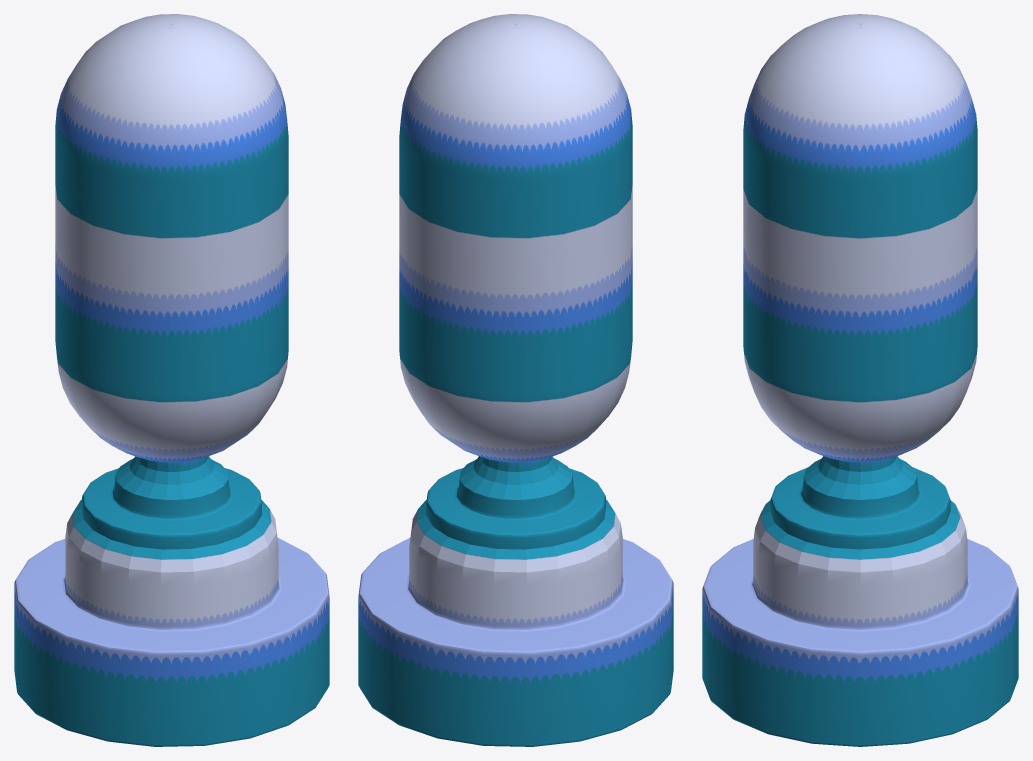
Rendered from Statue.fbx.
3 views of the same model, side by side, from view 1: azimuth 30°, elevation 25°; view 2: azimuth 150°, elevation 25°; view 3: azimuth 270°, elevation 25° (orthographic).
Visible parts, largest first — view 1: Capsule2; view 2: Capsule2; view 3: Capsule2.
Boxes of the visible parts, <box> form: Capsule2: <box>14,14,329,746</box>; Capsule2: <box>358,14,673,746</box>; Capsule2: <box>702,14,1018,746</box>.
Bounding box in the file's own units: 190 × 435 × 190.
1 material, 1 textured.
